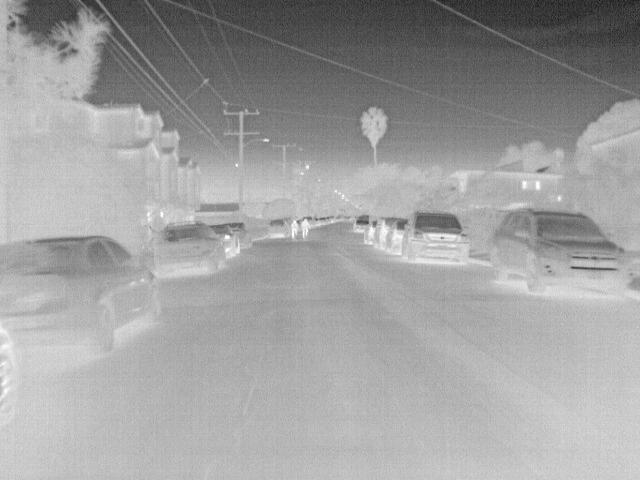car: (5, 235, 164, 358), (489, 206, 636, 296), (147, 222, 225, 280), (405, 210, 472, 268), (2, 320, 26, 428), (205, 222, 239, 256), (221, 223, 253, 249), (385, 220, 407, 253), (373, 218, 392, 250), (268, 220, 291, 238), (365, 219, 379, 245), (353, 216, 372, 232), (301, 214, 315, 228)
person: (298, 218, 311, 239), (289, 219, 301, 241)
